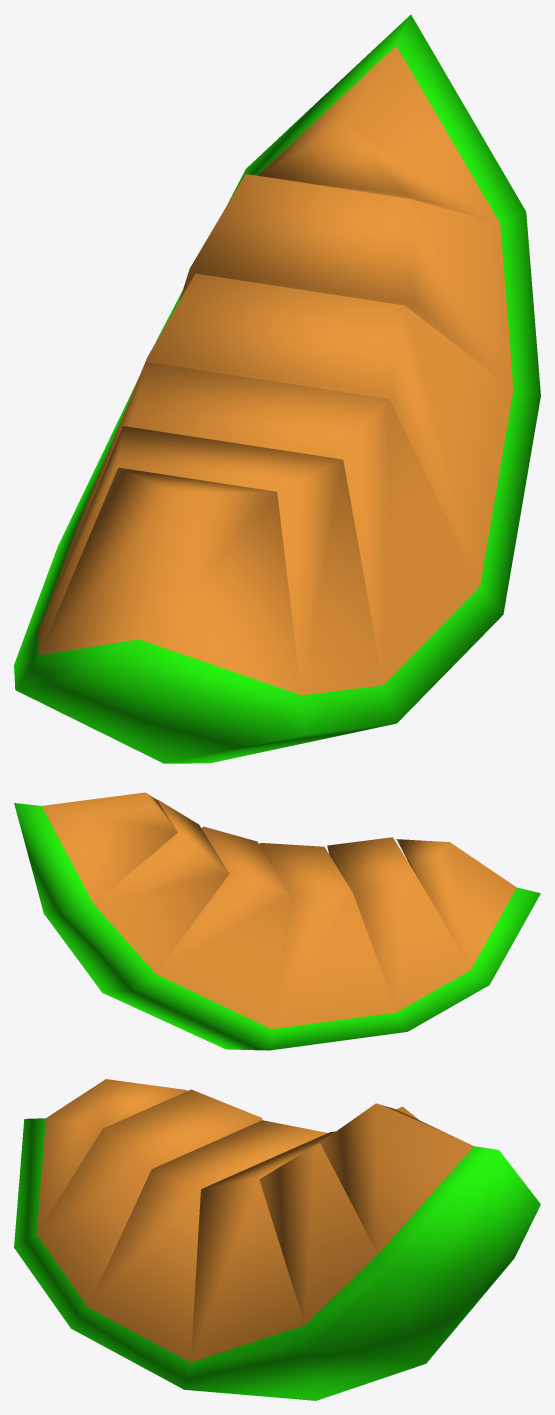
The model's file is Cut_melon.fbx.
3 views of the same model, one above another, from view 1: azimuth 30°, elevation 25°; view 2: azimuth 150°, elevation 25°; view 3: azimuth 270°, elevation 25° (orthographic). The views are drawn at different scales.
Parts seen in each view (by area): view 1: Base.013; view 2: Base.013; view 3: Base.013.
Part boxes in pixels (x1=…): Base.013: x1=14, y1=14, x2=540, y2=763; Base.013: x1=14, y1=792, x2=540, y2=1050; Base.013: x1=14, y1=1079, x2=540, y2=1400.
Bounding box in the file's own units: 1.54 × 1.06 × 1.49.
